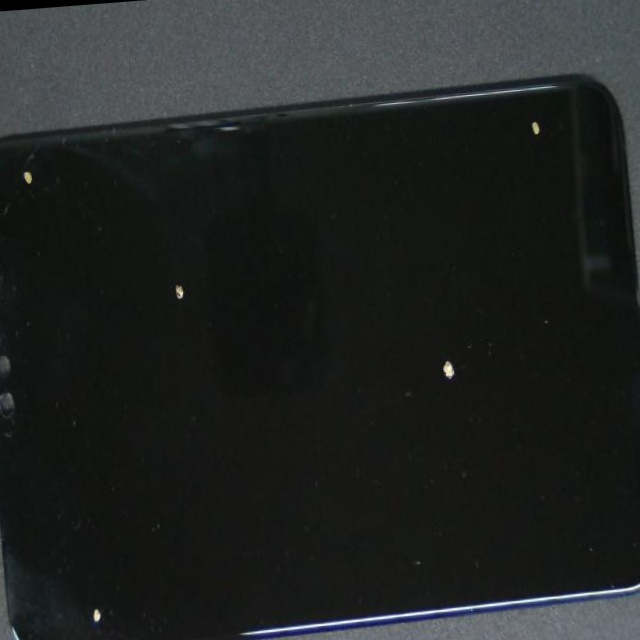stain: (178, 117, 640, 540), (73, 160, 334, 432), (235, 14, 640, 185), (19, 273, 164, 640), (0, 71, 85, 228)
